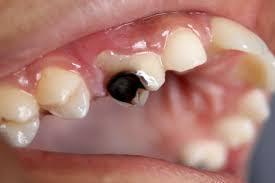Cavity: (106, 67, 146, 103)
